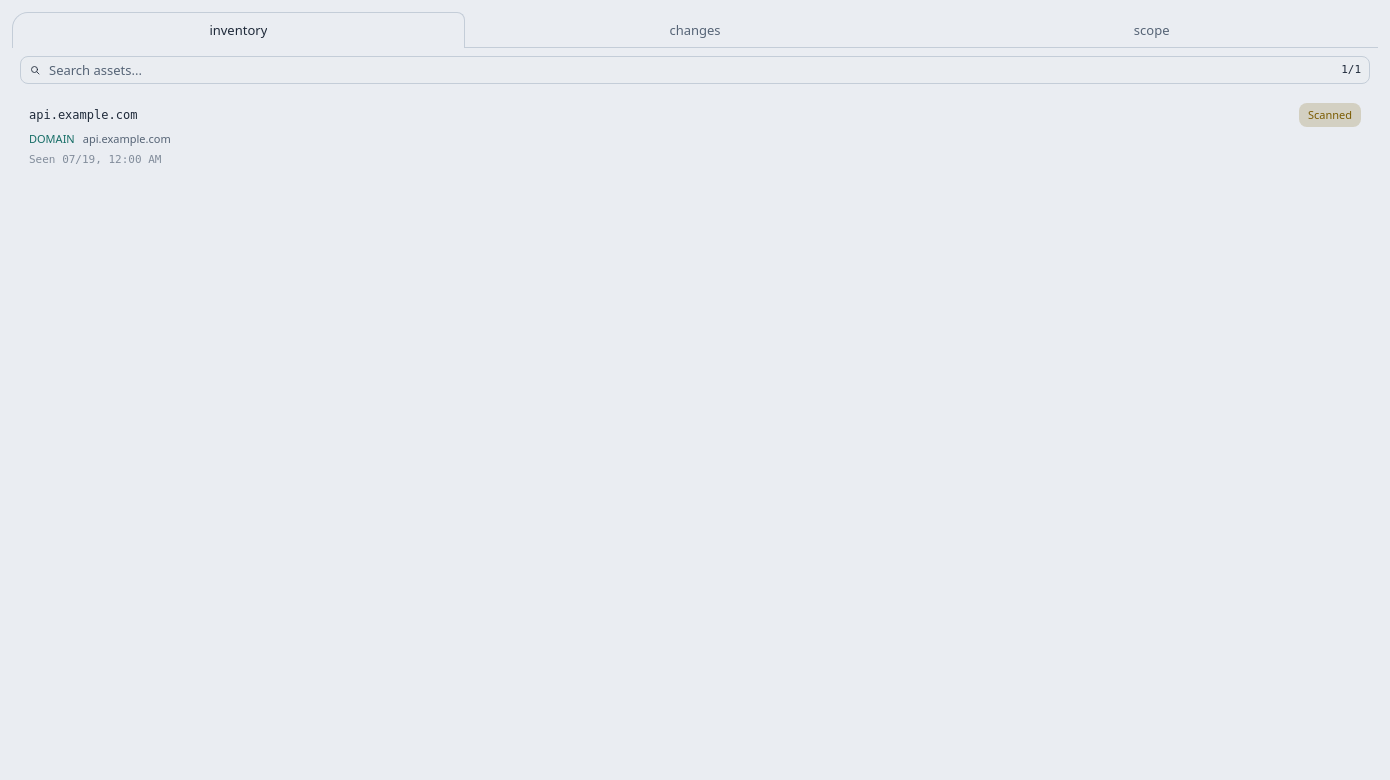
it: AssetWorkspaceTab › closes the asset context menu through Escape and outside interaction
Right-click the button "api.example.com" at (83,115), box [18,94,1372,177]
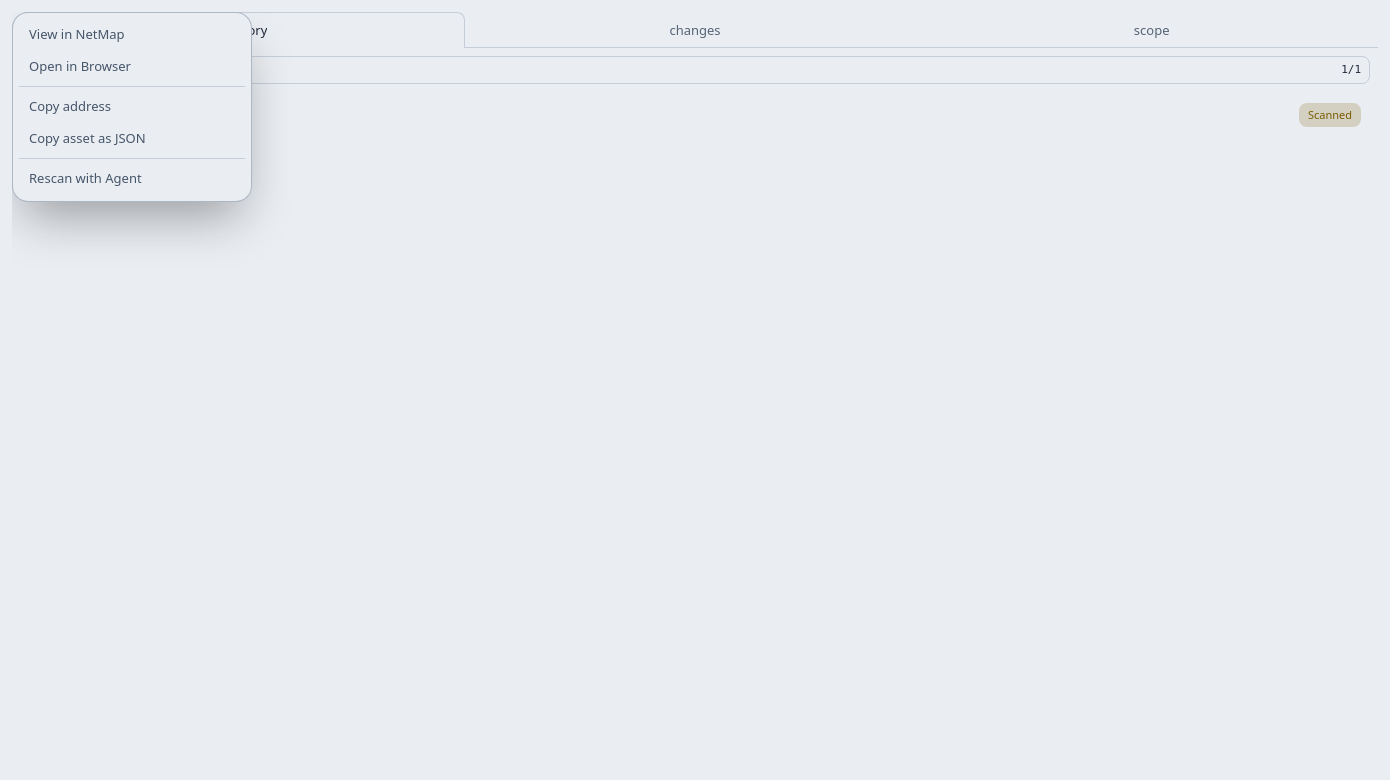
Expected: the menu is shown, [12,12,252,202]
Press Escape
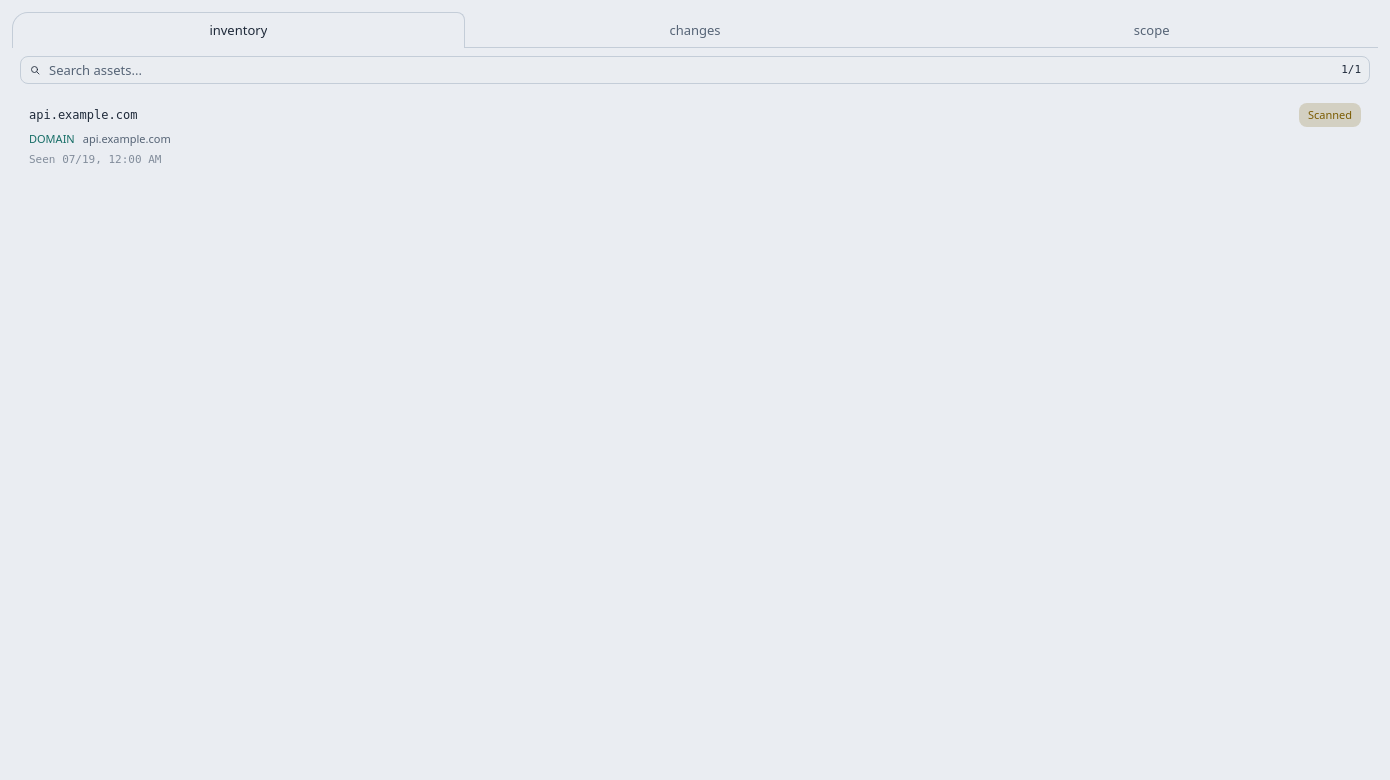
Expected: the menu is gone
Right-click the button "api.example.com" at (83,115), box [18,94,1372,177]
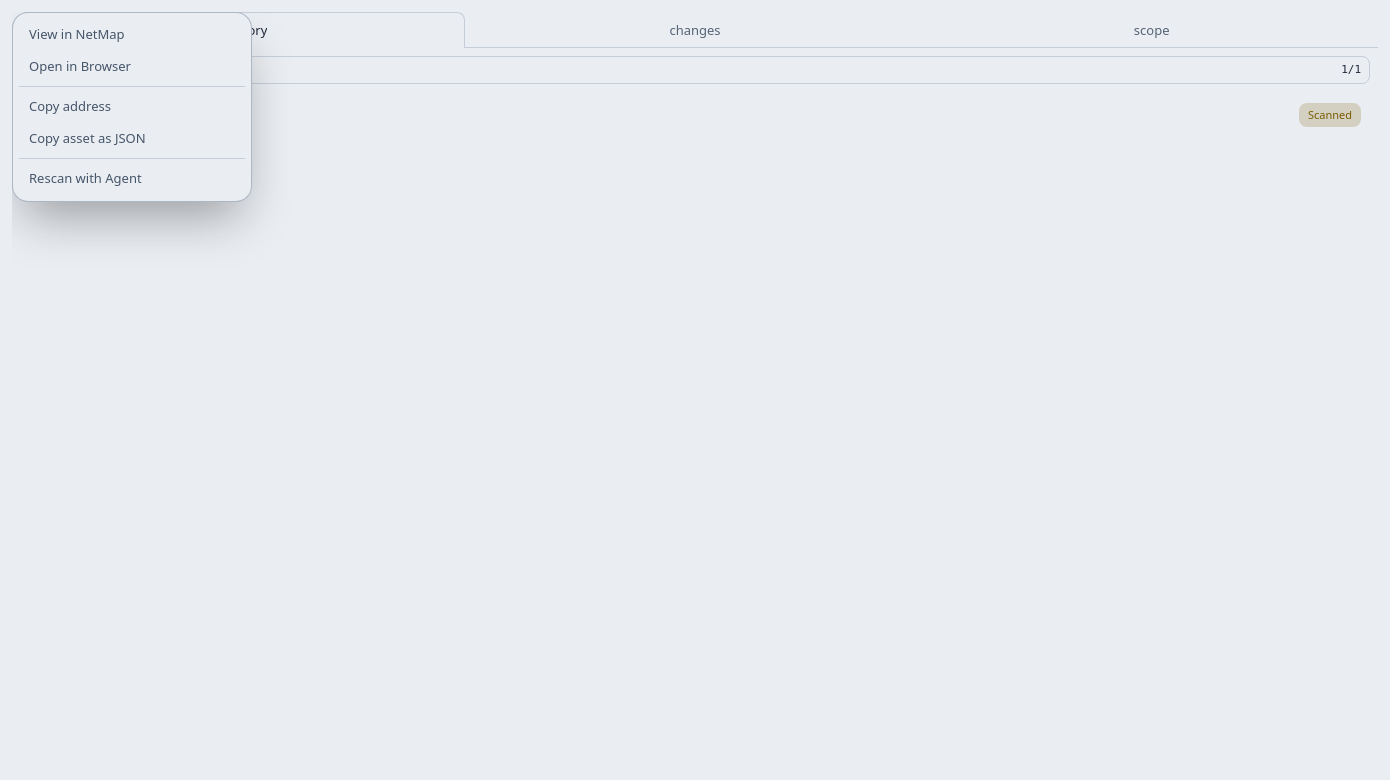
Press the mouse on the element that starts with "inventory" at (695,396), box [12,12,1378,779]
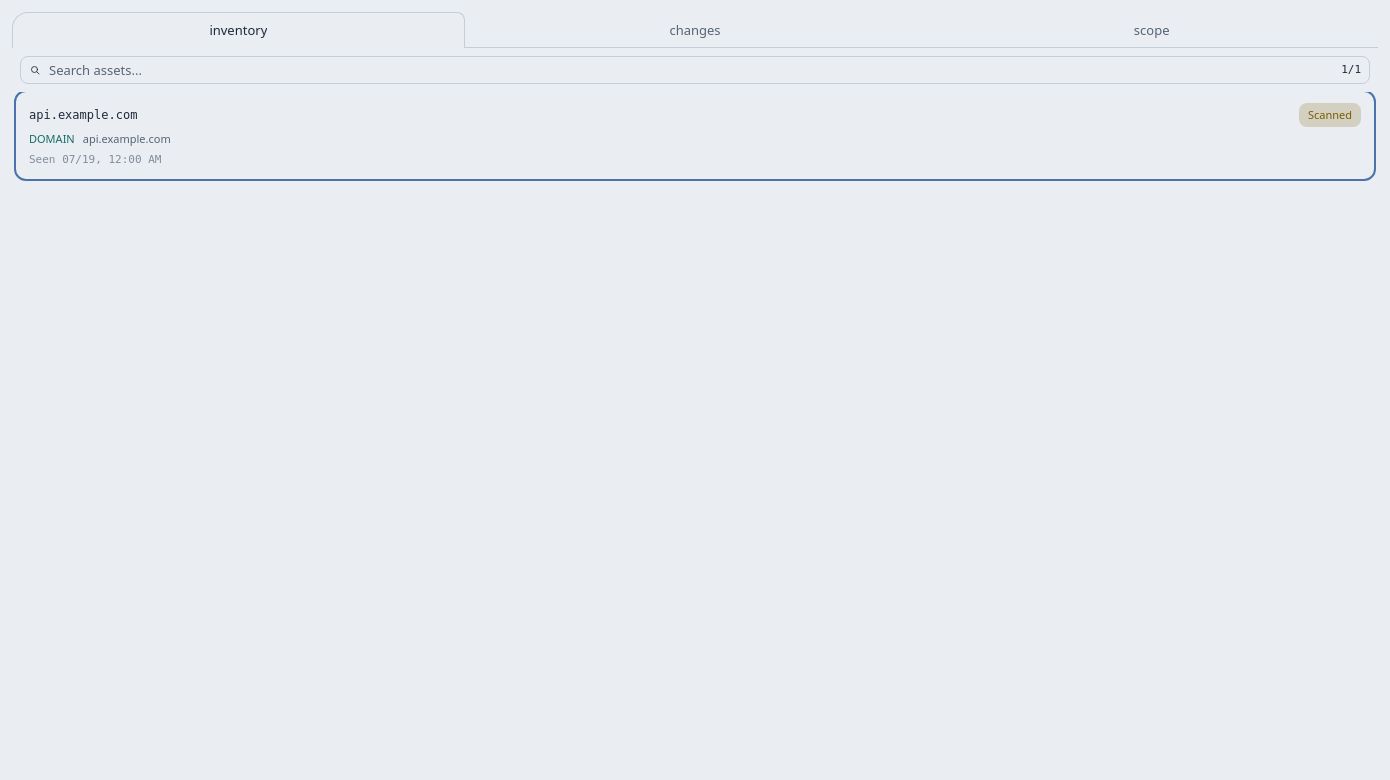
Expected: the menu is gone
